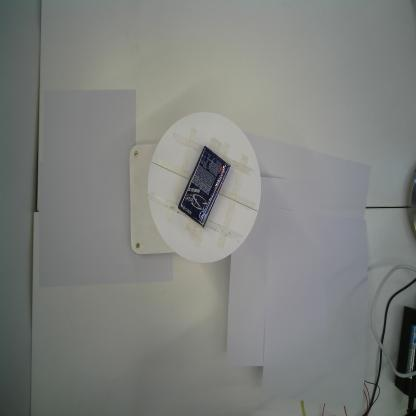Gum: (176, 145, 232, 230)
